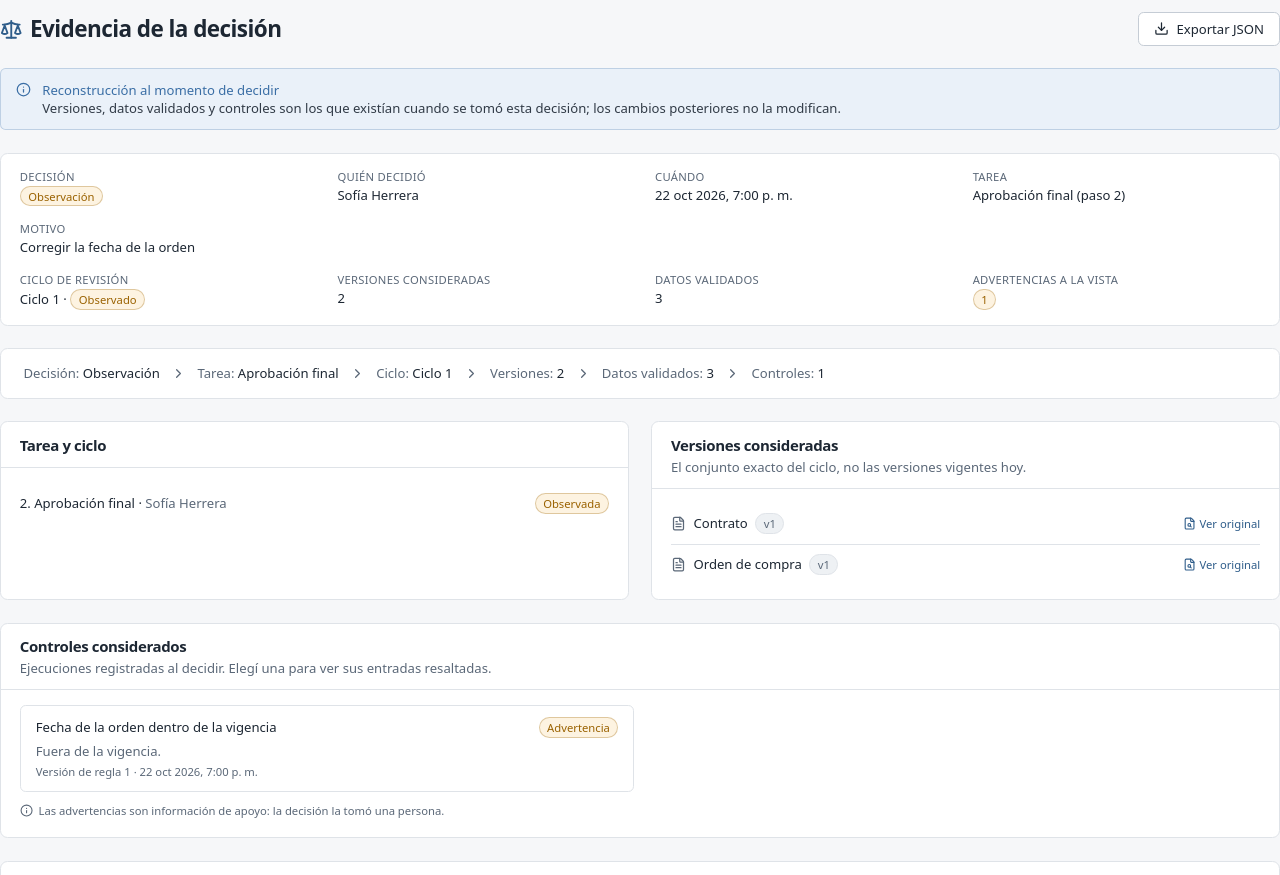
Test: Evidencia de la decisión (V1 a V4) › responde quién, cuándo, qué y por qué, y resalta las entradas de un control
The image size is (1280, 875).
Expected: the text "Corregir la fecha de la orden" is shown, [20, 238, 195, 256]
Expected: the text "Observación" in the row of "(paso" is shown, [28, 188, 94, 204]
Click the button "Fecha de la orden dentro de la vigencia" at (156, 727), box [20, 705, 634, 792]
(page scrolled)
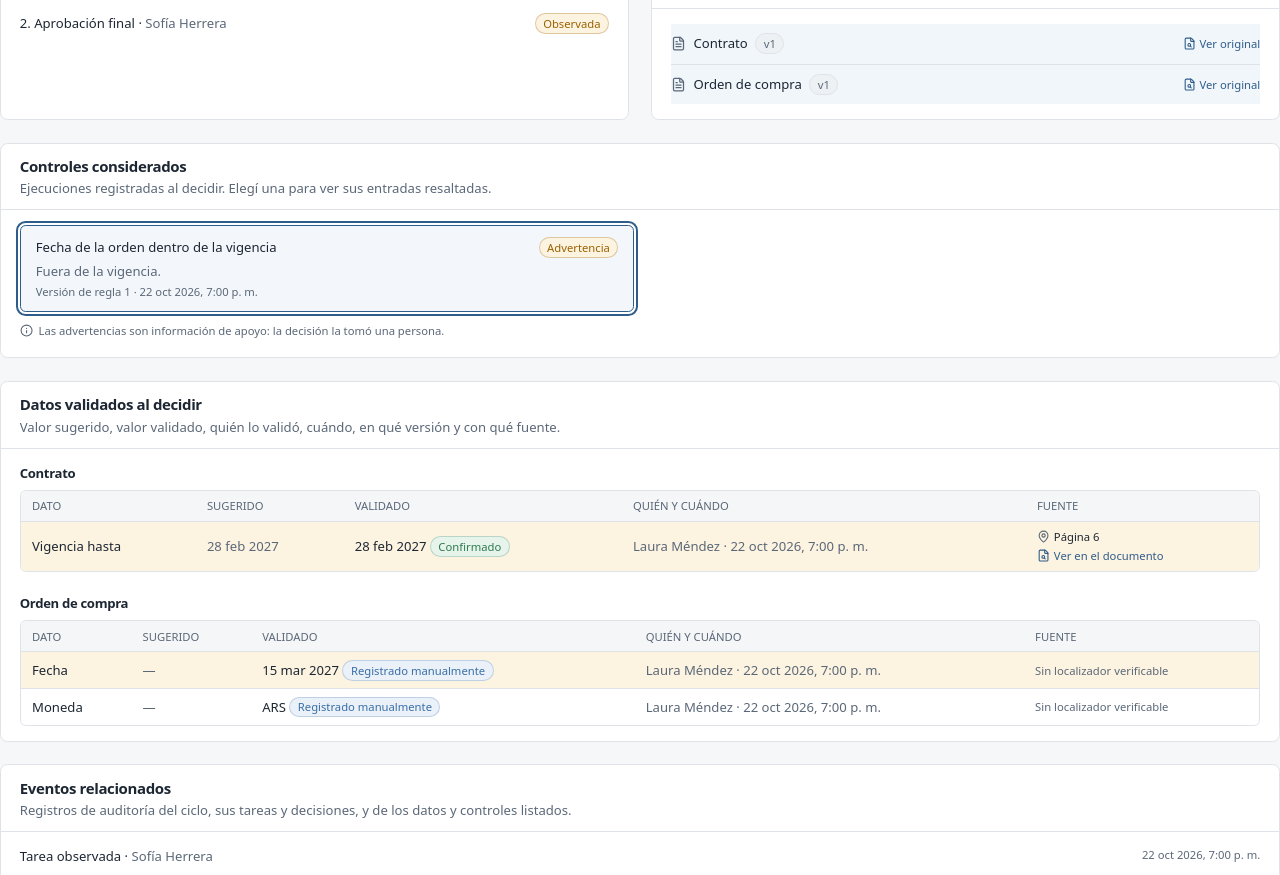
Expected: the button "Fecha de la orden dentro de la vigencia" is pressed, [20, 225, 634, 312]
Expected: the text "15 mar 2027" has class "bg-advertencia-suave", [21, 652, 1259, 689]
